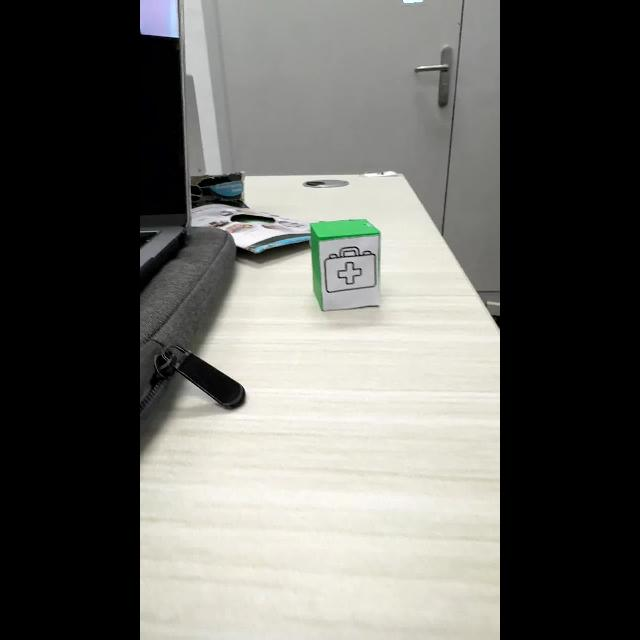Medkit: (324, 247, 376, 293)
